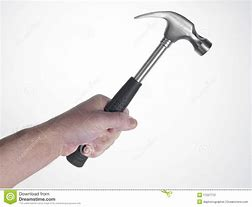hammer: (62, 8, 214, 170)
